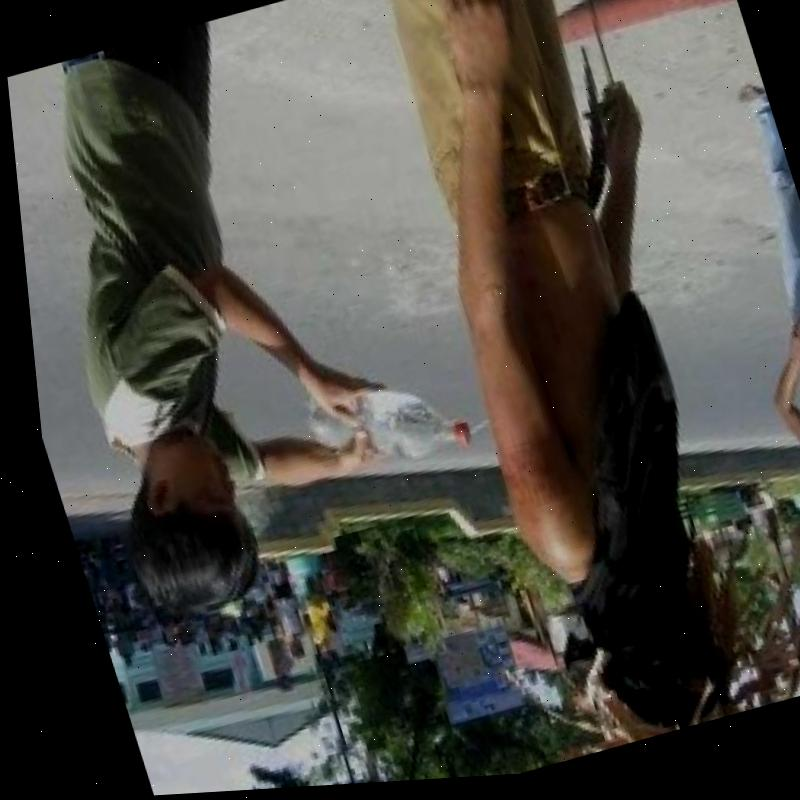botella: (284, 352, 473, 492)
